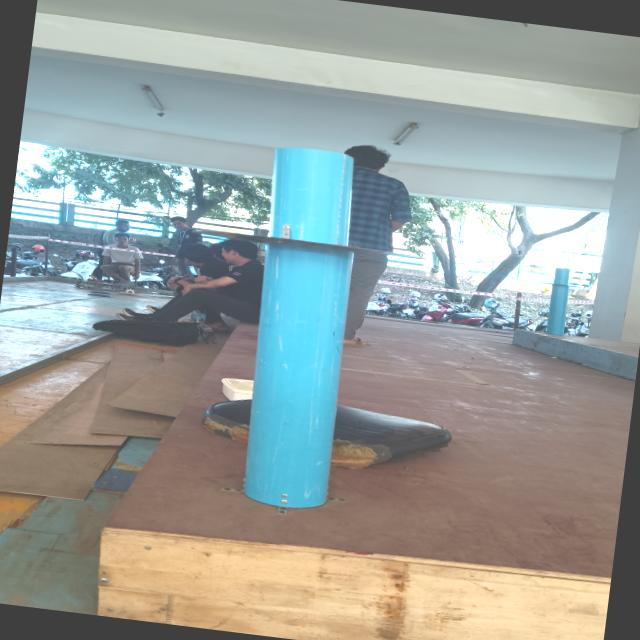pole: (136, 170, 487, 317)
